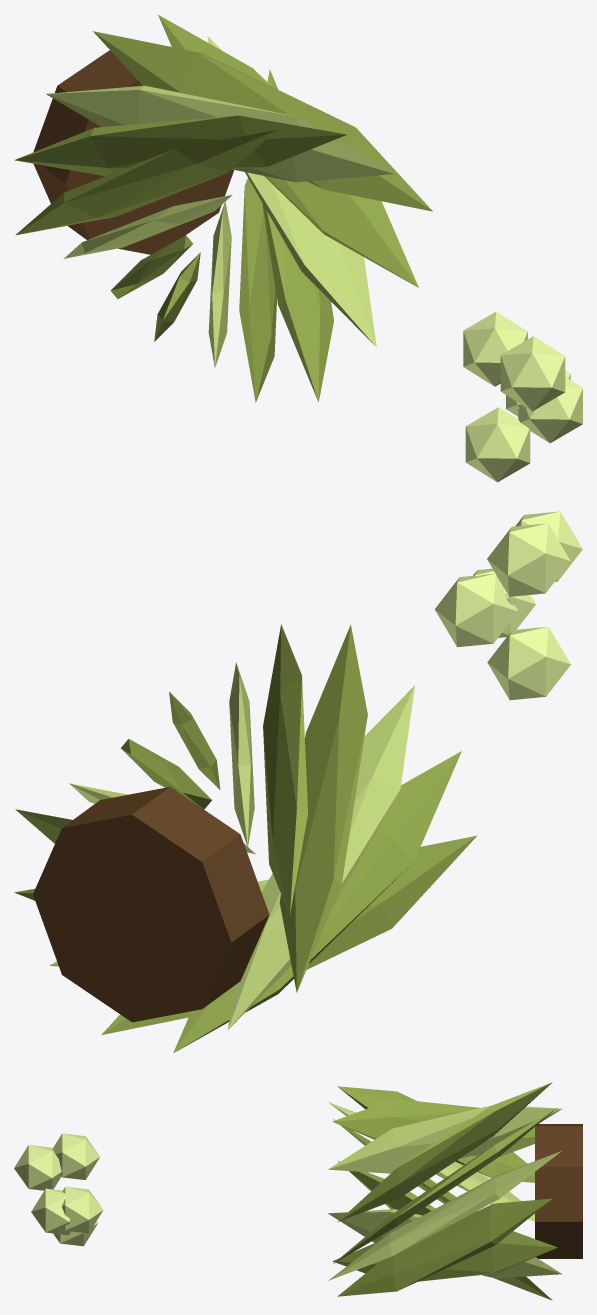
File: 4_mature.obj
The picture shows the model from 3 angles, top to bottom: view 1: azimuth 30°, elevation 25°; view 2: azimuth 150°, elevation 25°; view 3: azimuth 270°, elevation 25°; orthographic projection. The views are drawn at different scales.
Visible parts, largest first — view 1: tarromin_4_mature; view 2: tarromin_4_mature; view 3: tarromin_4_mature.
Part boxes in pixels (box(x1,y1,x2,y2)): tarromin_4_mature: box(14, 15, 582, 482); tarromin_4_mature: box(14, 511, 582, 1053); tarromin_4_mature: box(14, 1082, 582, 1300).
Size of the model in its own units: 0.1808 by 0.1808 by 0.4745.
